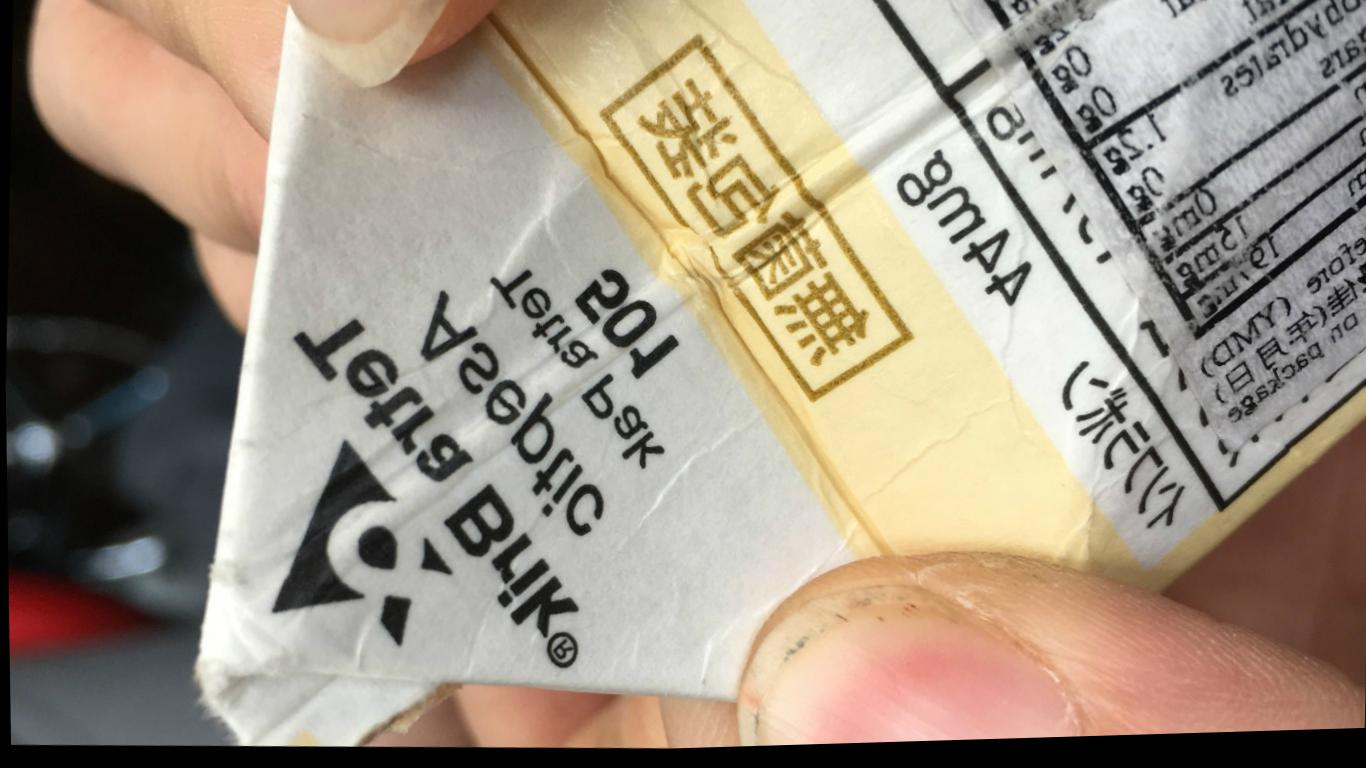cardboard: (200, 0, 1362, 743)
